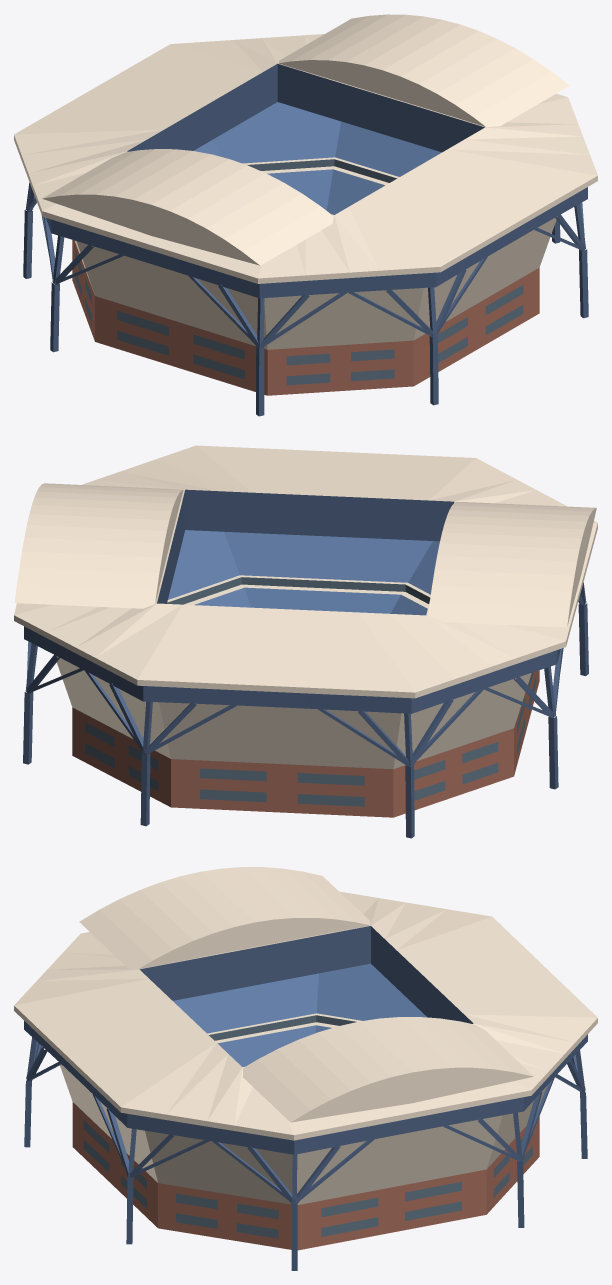
Rendered from detail.glb.
3 views of the same model, one above another, from view 1: azimuth 30°, elevation 25°; view 2: azimuth 150°, elevation 25°; view 3: azimuth 270°, elevation 25° (orthographic). The views are drawn at different scales.
Visible parts, largest first — view 1: arthur-ashe-stadium; view 2: arthur-ashe-stadium; view 3: arthur-ashe-stadium.
Part boxes in pixels (x1,y1,x2,y2): arthur-ashe-stadium: (14, 14, 597, 416); arthur-ashe-stadium: (14, 445, 597, 838); arthur-ashe-stadium: (14, 867, 597, 1270).
Size of the model in its own units: 175 by 59.6 by 175.
